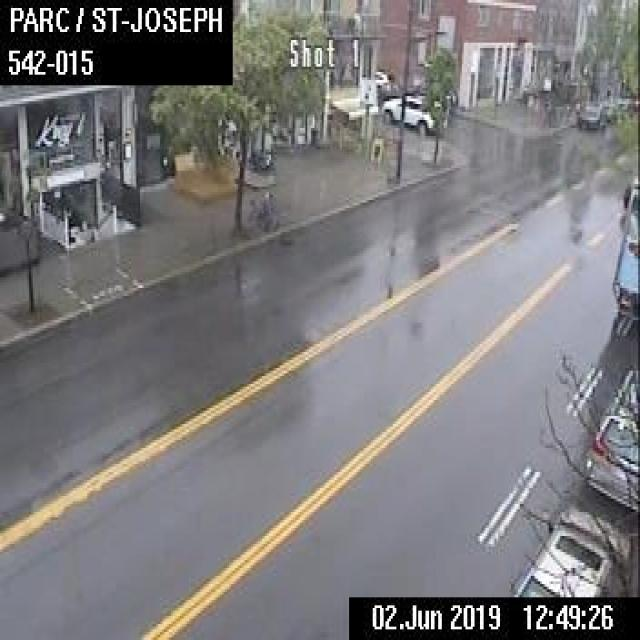vehicle: (509, 498, 631, 594), (580, 358, 638, 510), (609, 174, 638, 318), (380, 93, 446, 133), (574, 99, 606, 128), (373, 67, 397, 94)
